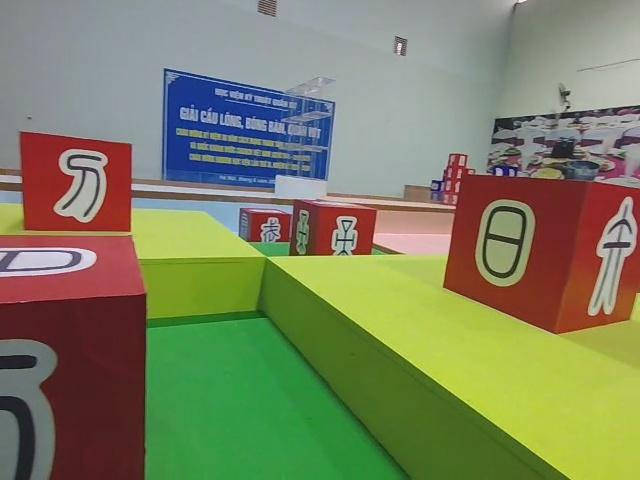R2 Fake: (0, 232, 144, 480), (443, 172, 640, 334), (17, 129, 133, 235), (238, 208, 292, 244)
R2 Real: (290, 197, 378, 256)
